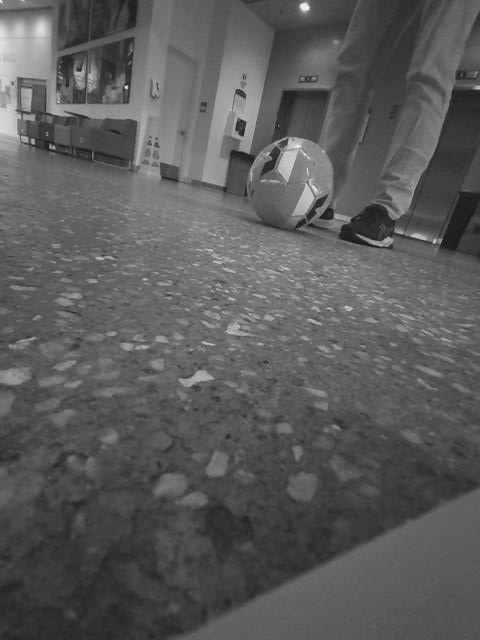ball: (269, 391, 350, 471)
